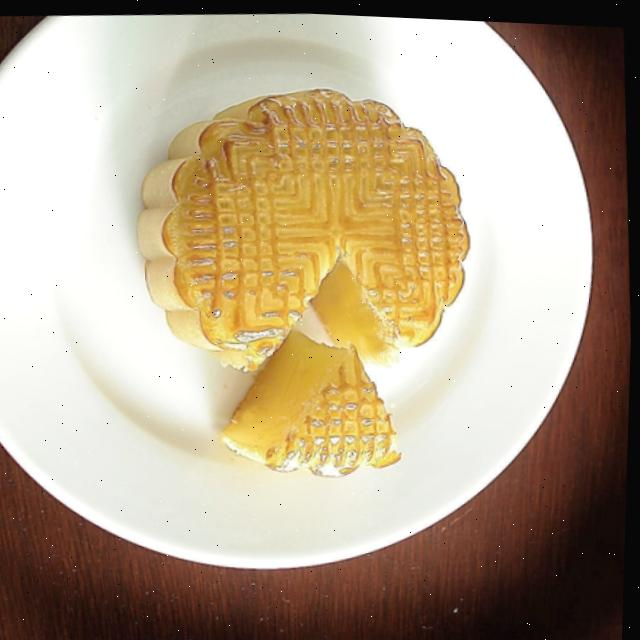蛋糕甜品: (108, 41, 526, 509)
